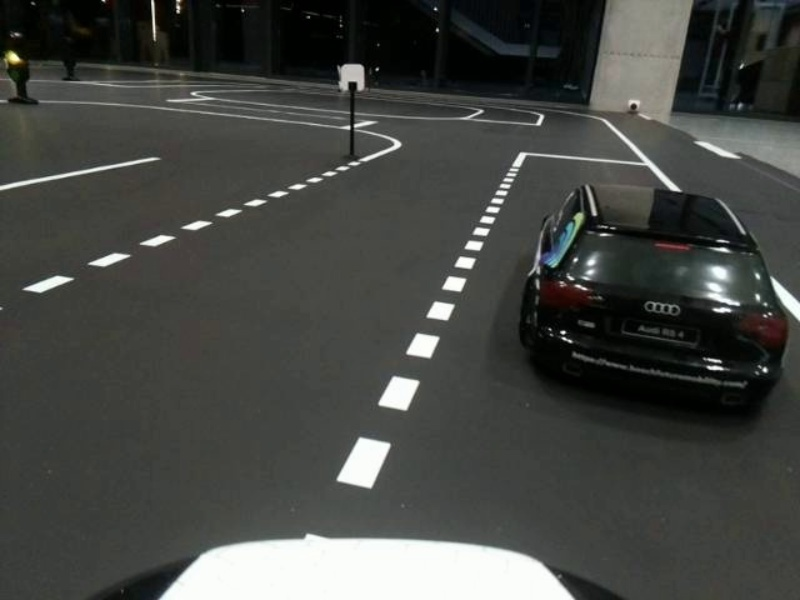car: (507, 171, 798, 435)
